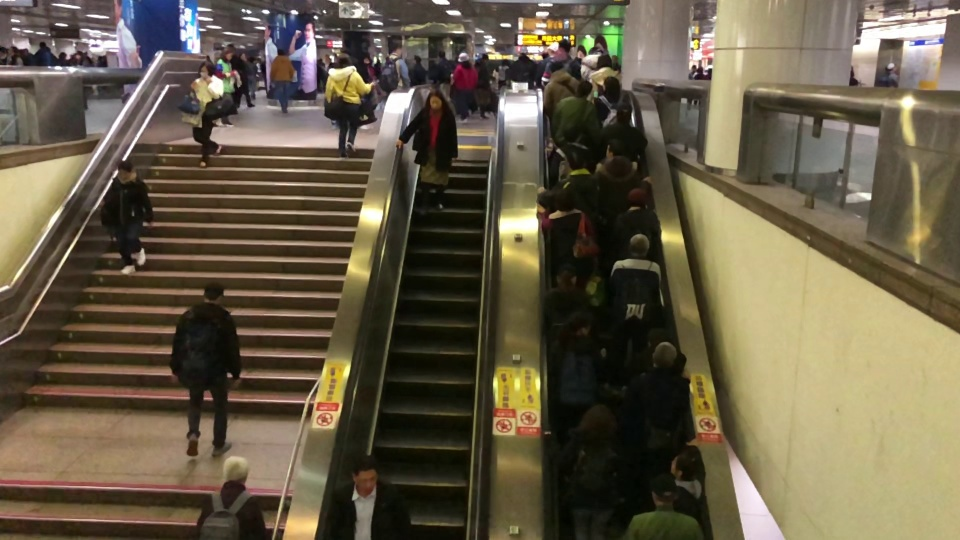person_head: (578, 403, 617, 438), (647, 472, 678, 508), (351, 454, 379, 492), (221, 454, 249, 486), (564, 309, 593, 338), (670, 451, 698, 481), (651, 341, 678, 369), (552, 186, 578, 214), (554, 262, 577, 290), (202, 279, 225, 306), (627, 233, 650, 258), (565, 145, 586, 170), (625, 187, 648, 208), (605, 138, 626, 160), (614, 103, 633, 125), (425, 89, 444, 111), (603, 76, 620, 97), (116, 160, 133, 181), (574, 80, 593, 98), (197, 60, 213, 78), (336, 51, 351, 69), (548, 60, 565, 75), (596, 54, 613, 69), (220, 46, 235, 62), (557, 38, 571, 54), (456, 51, 469, 66), (390, 43, 402, 57), (7, 45, 20, 56), (517, 52, 529, 63), (361, 54, 372, 65), (885, 62, 895, 74), (588, 46, 603, 54), (479, 53, 488, 64), (412, 54, 421, 65), (275, 47, 285, 56), (438, 48, 446, 59), (0, 46, 7, 58), (500, 58, 509, 67), (705, 66, 713, 76), (238, 52, 246, 62), (37, 41, 46, 49), (73, 52, 82, 60), (58, 51, 66, 60), (695, 66, 703, 74), (690, 63, 697, 72), (248, 56, 255, 64)
person_vbox: (167, 279, 242, 457), (625, 341, 691, 513), (606, 233, 668, 391), (558, 403, 626, 540), (395, 89, 459, 217), (548, 309, 607, 437), (325, 454, 412, 540), (98, 160, 154, 276), (195, 454, 267, 540), (535, 185, 594, 289), (622, 472, 704, 540), (324, 52, 376, 158), (592, 138, 652, 217), (536, 144, 601, 214), (539, 262, 593, 343), (188, 60, 225, 169), (610, 188, 661, 267), (670, 451, 710, 540), (592, 104, 648, 167), (551, 81, 600, 149), (542, 60, 581, 137), (451, 51, 479, 125), (268, 47, 295, 114), (214, 46, 236, 128), (541, 38, 575, 87), (595, 75, 626, 128), (587, 54, 621, 100), (383, 43, 411, 89), (232, 51, 254, 109), (474, 53, 493, 120), (434, 48, 454, 109), (506, 51, 536, 89), (70, 51, 88, 109), (578, 46, 606, 81), (407, 53, 427, 86), (32, 41, 52, 67), (687, 63, 698, 110), (360, 53, 376, 83), (692, 66, 703, 107), (882, 62, 899, 87), (247, 56, 256, 101), (497, 57, 509, 90), (6, 45, 23, 64), (53, 50, 70, 66), (702, 66, 713, 80), (0, 46, 7, 65)
